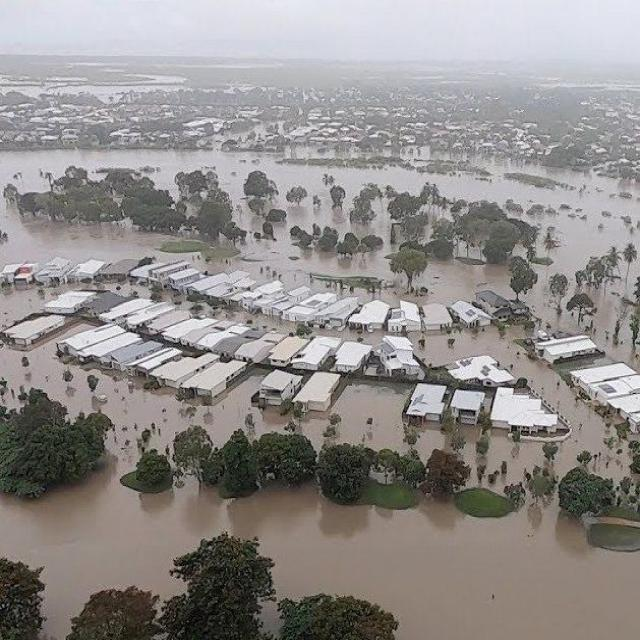flooded_areas: (2, 147, 639, 550)
